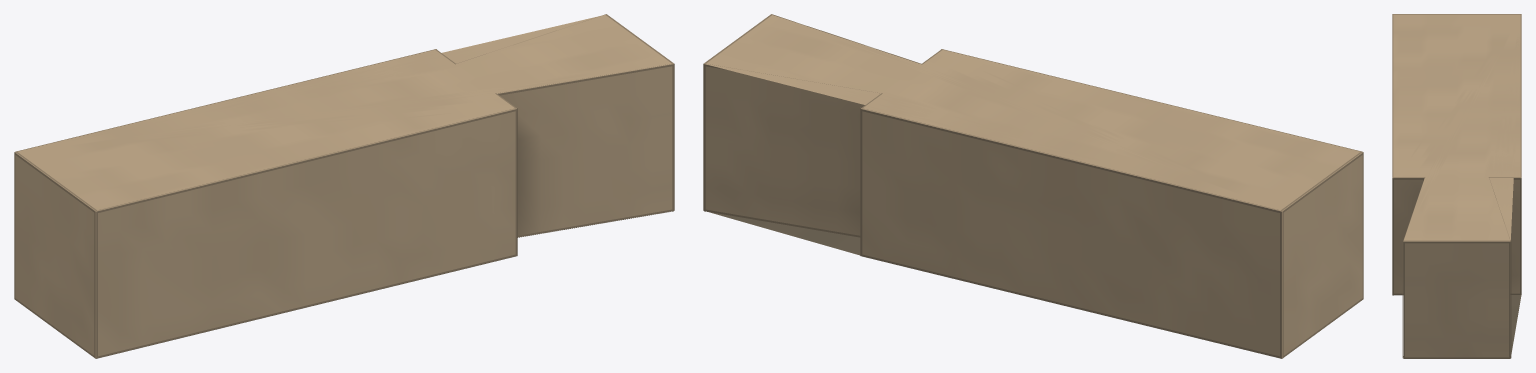
The picture shows the model from 3 angles, left to right: view 1: azimuth 30°, elevation 25°; view 2: azimuth 150°, elevation 25°; view 3: azimuth 270°, elevation 25°; orthographic projection. The views are drawn at different scales.
Parts seen in each view (by area): view 1: part-a; view 2: part-a; view 3: part-a.
Boxes of the visible parts, x1,y1,x2,y2 form: part-a: (14, 14, 674, 358); part-a: (703, 14, 1363, 358); part-a: (1392, 14, 1521, 358).
Size of the model in its own units: 0.5008 by 0.1208 by 0.1208.
